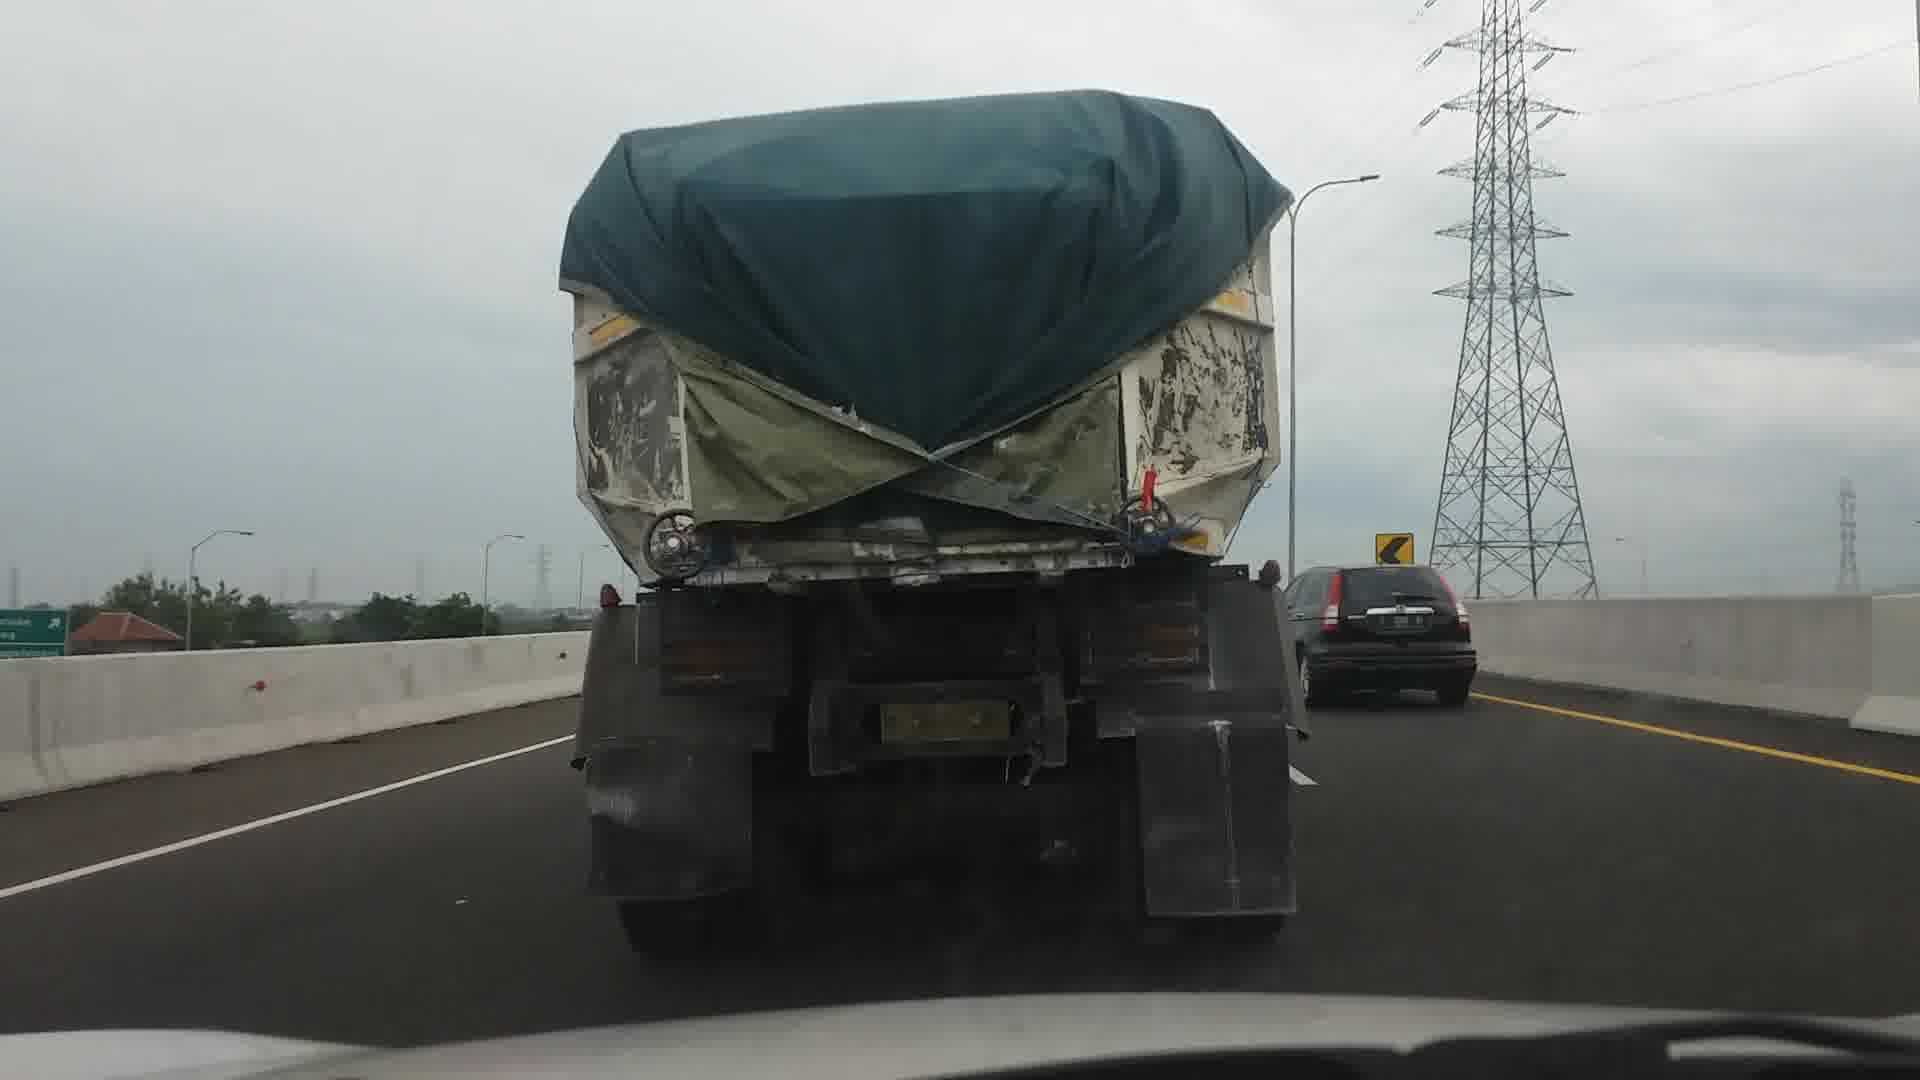plate_positive: (882, 702, 1011, 742)
